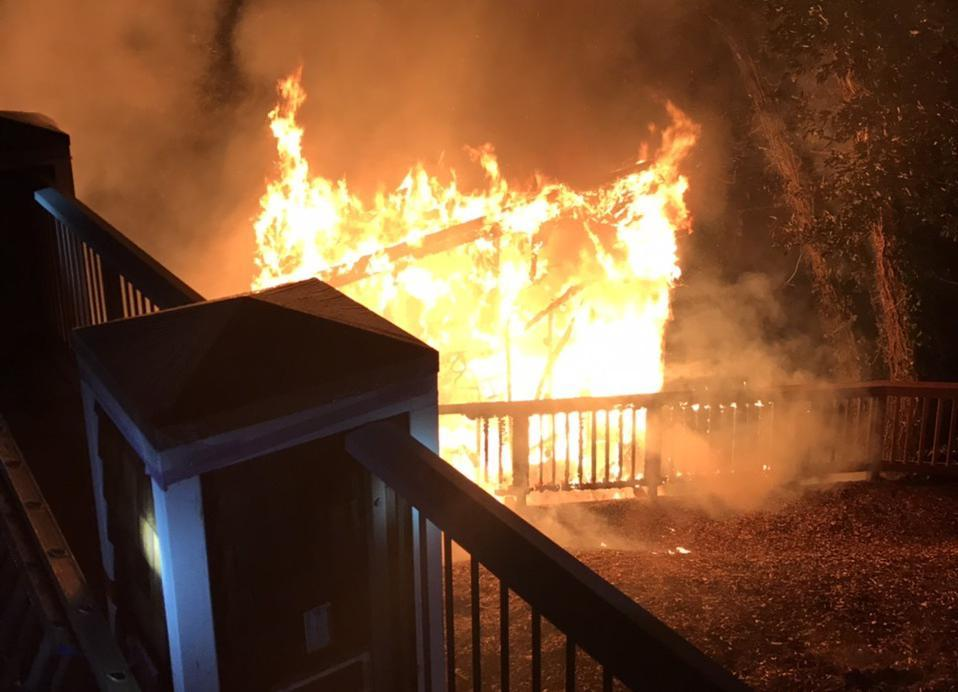Fire: (247, 70, 721, 479)
